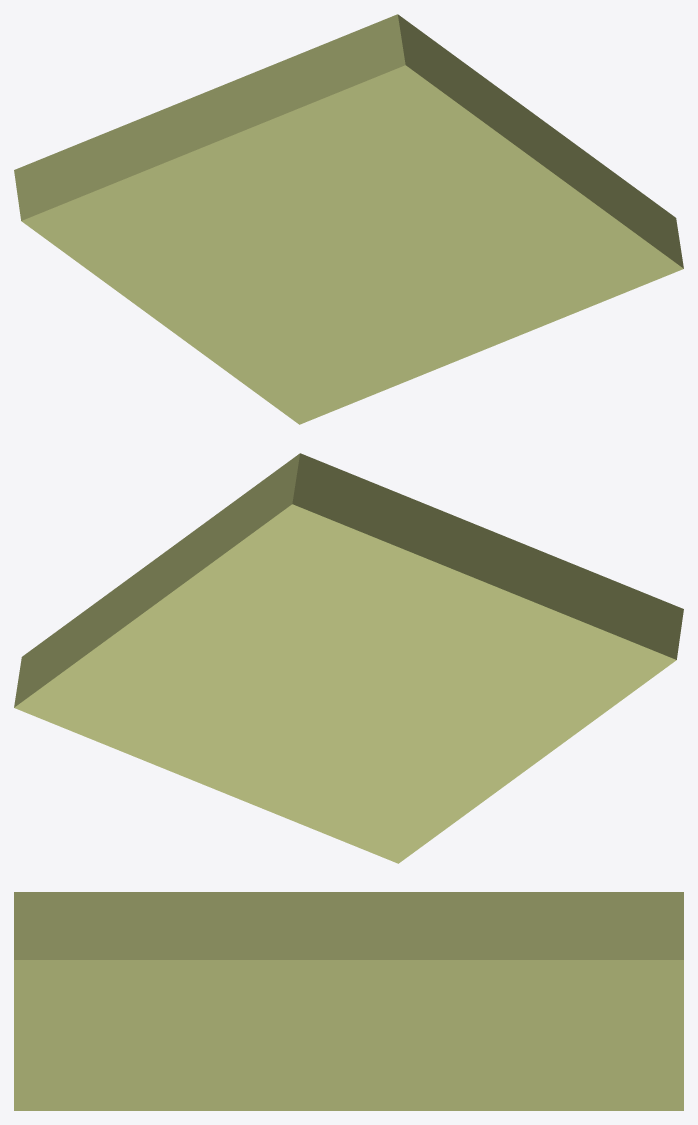
3 renders of one model, top to bottom at view 1: azimuth 30°, elevation 25°; view 2: azimuth 150°, elevation 25°; view 3: azimuth 270°, elevation 25°, orthographic. The views are drawn at different scales.
Visible parts, largest first — view 1: 0_1_3_2_2_2_1_2_2_2_0; view 2: 0_1_3_2_2_2_1_2_2_2_0; view 3: 0_1_3_2_2_2_1_2_2_2_0.
Boxes of the visible parts, x1,y1,x2,y2 form: 0_1_3_2_2_2_1_2_2_2_0: (14,14,683,424); 0_1_3_2_2_2_1_2_2_2_0: (14,453,683,863); 0_1_3_2_2_2_1_2_2_2_0: (14,892,683,1110).
Size of the model in its own units: 7.31 by 2.05 by 9.
